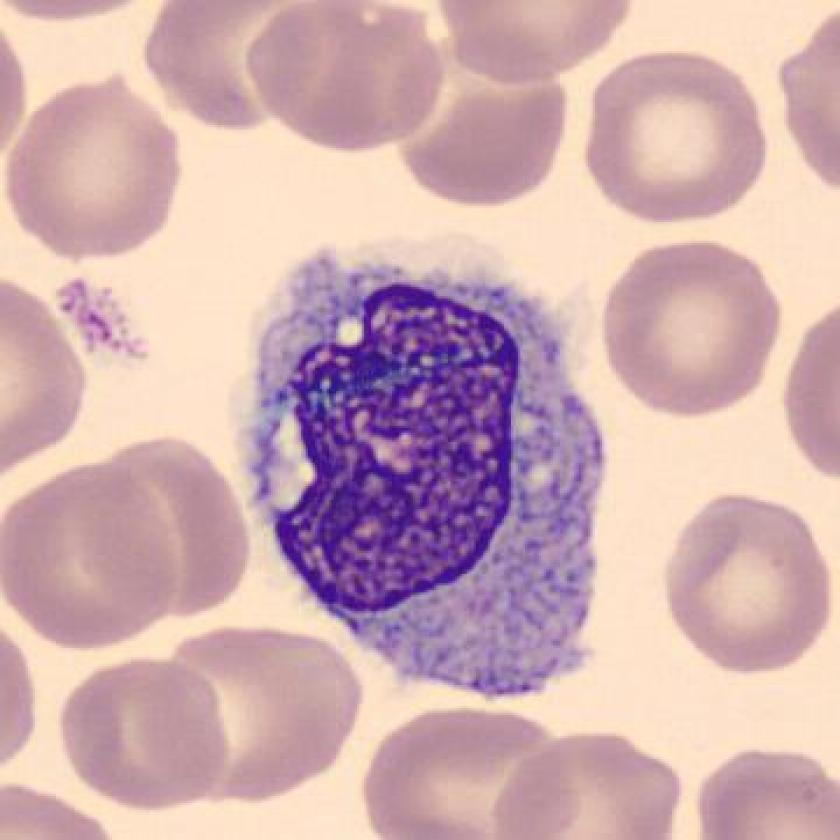monocyte: (220, 226, 629, 716)
